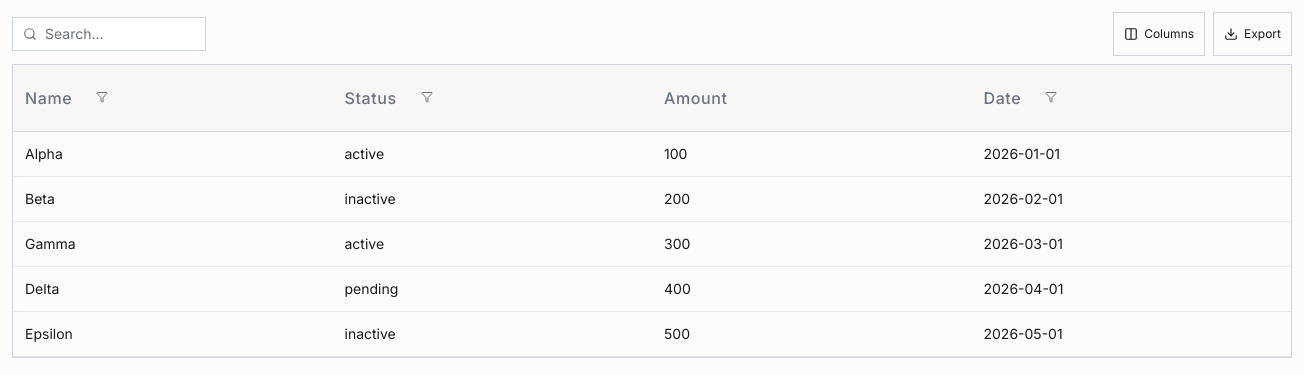
Test case: DataTable — global search › filters rows when typing in global search
Type "Alpha" into the search field with placeholder "Search…" at [109, 34], box [13, 18, 205, 50]
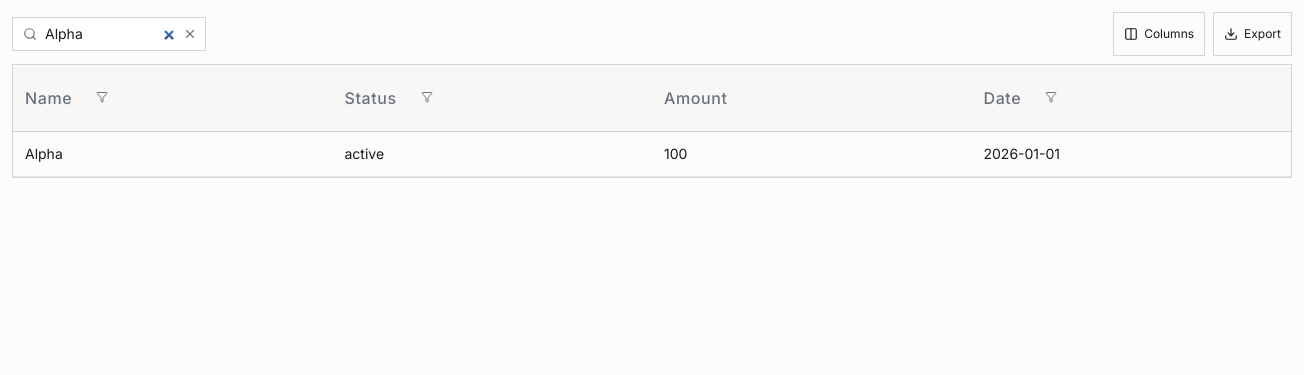
Now the text "Beta" is gone
